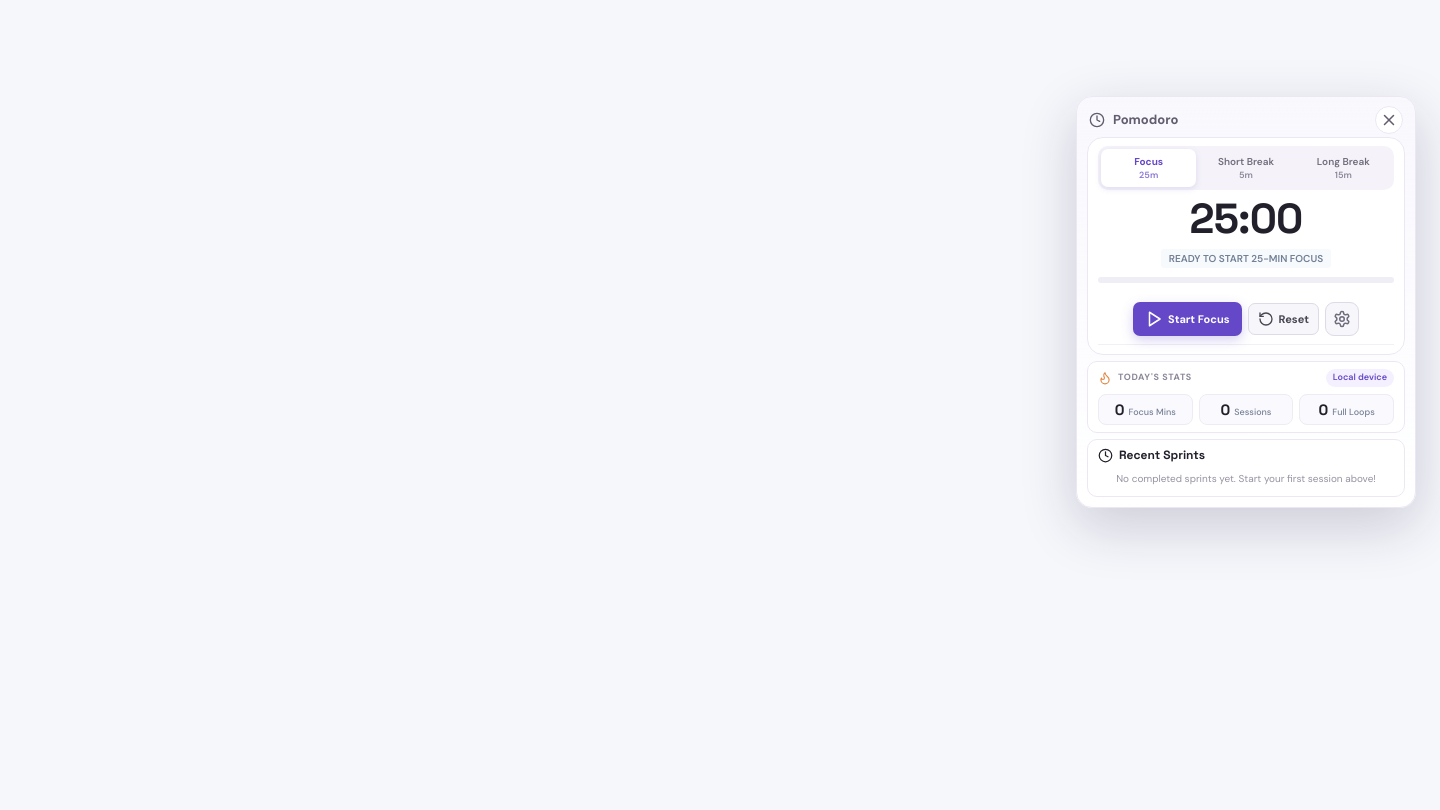
LivePomodoroSection Component (Guest Unauthenticated Experience) › customizes durations in settings and saves to localStorage
This screenshot has width=1440, height=810.
// Open Settings
Click the button named "Timer settings" at [1342, 319], box [1325,302,1359,336]
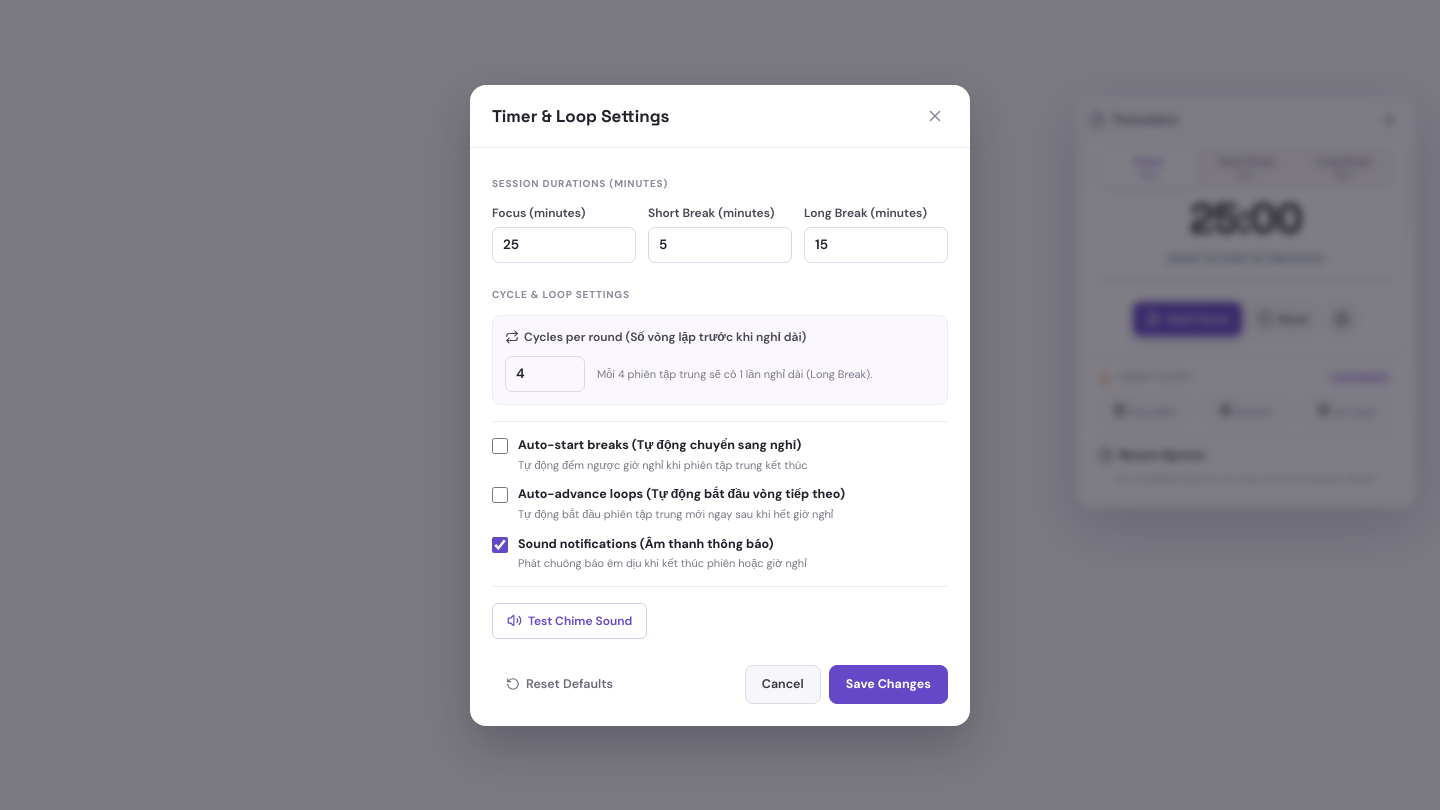
Result: the heading "Timer & Loop Settings" is shown at [492,104,669,126]
// Change focus duration to 45
Replace the text in the number field labelled "Focus (minutes)" with "45" at [564, 245], box [492,226,636,263]
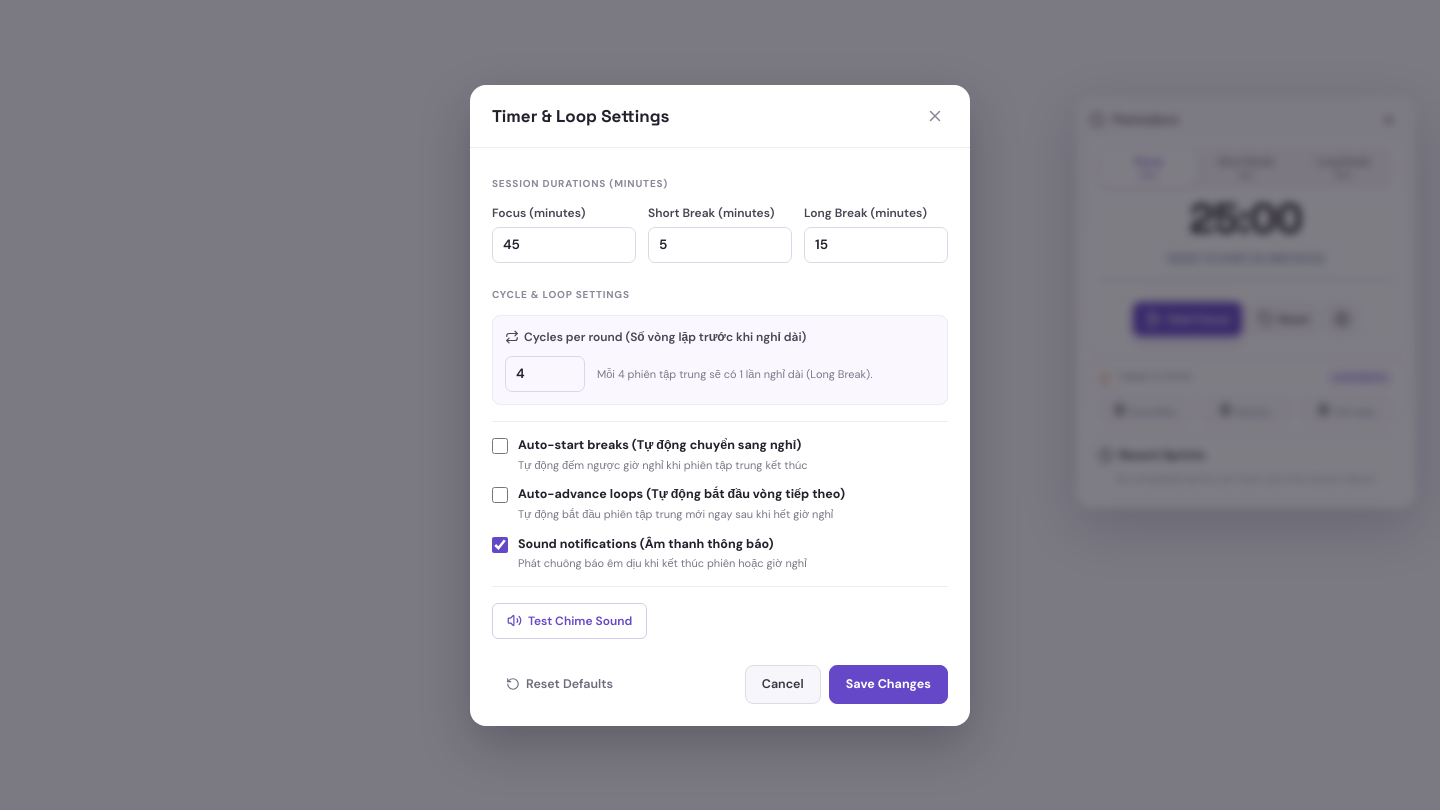
Click the button "Save Changes" at [888, 684], box [829,665,948,704]
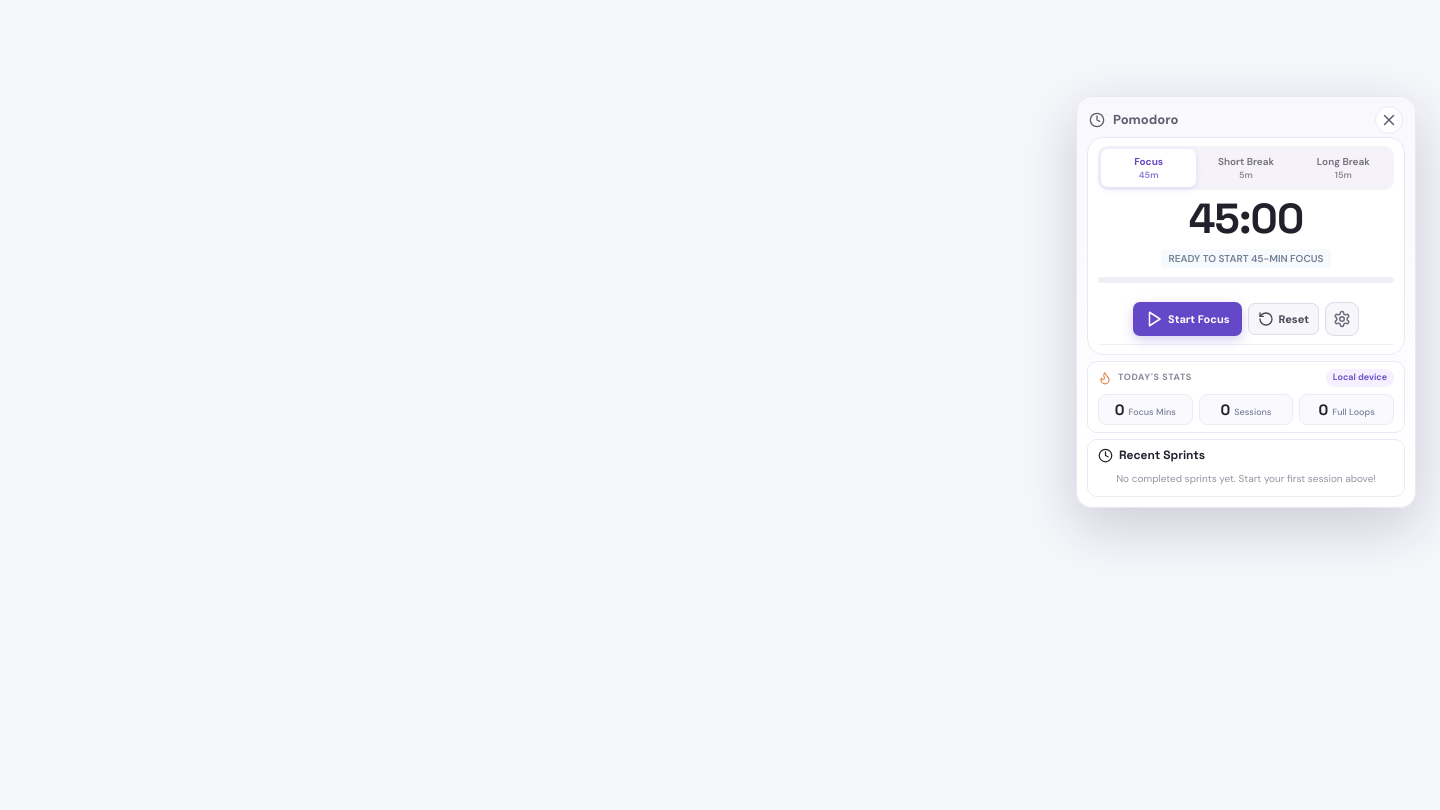
Result: the heading "Timer & Loop Settings" is gone
Result: the text "45:00" is shown at [1189,192,1303,245]
